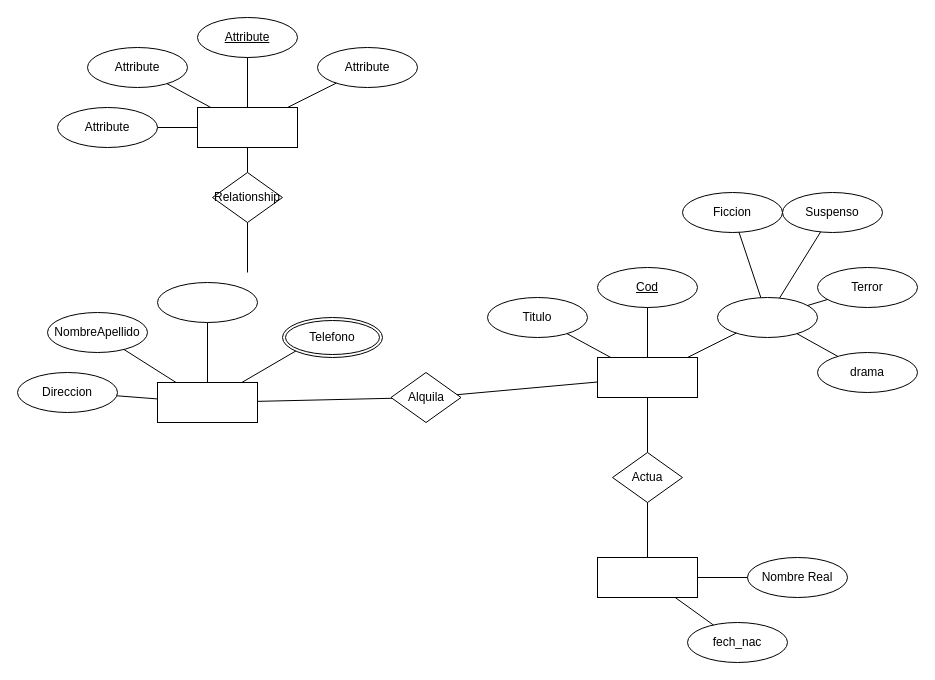
Image size: 935x680. Some labels were removed from this diagram. The shapes that lost their labels are listed below. From the top down, each one's centre as x and y in pixels, then its label:
(247,127): Entity
(207,302): nro_socio
(767,317): categoria
(647,377): Peliculas
(207,402): Cliente
(647,577): Actor
